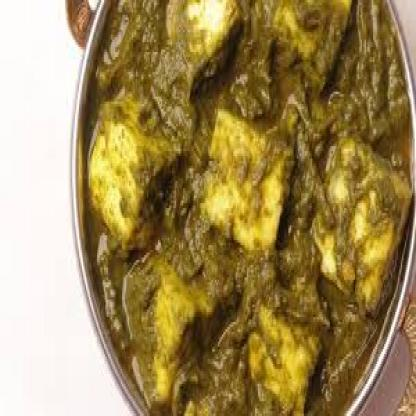palak_paneer: (83, 0, 413, 416)
